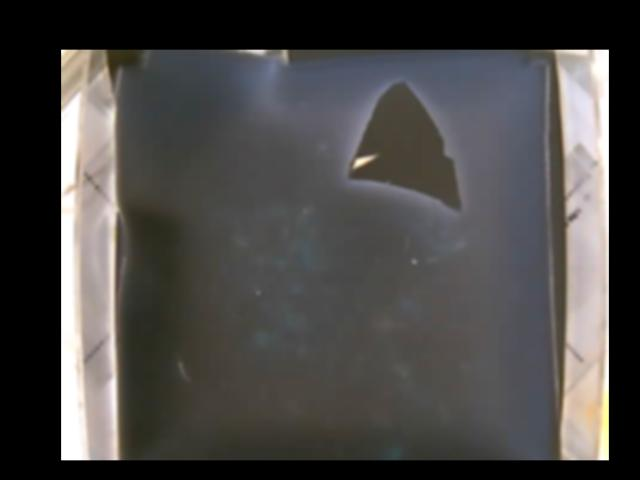China: (346, 80, 468, 211)
